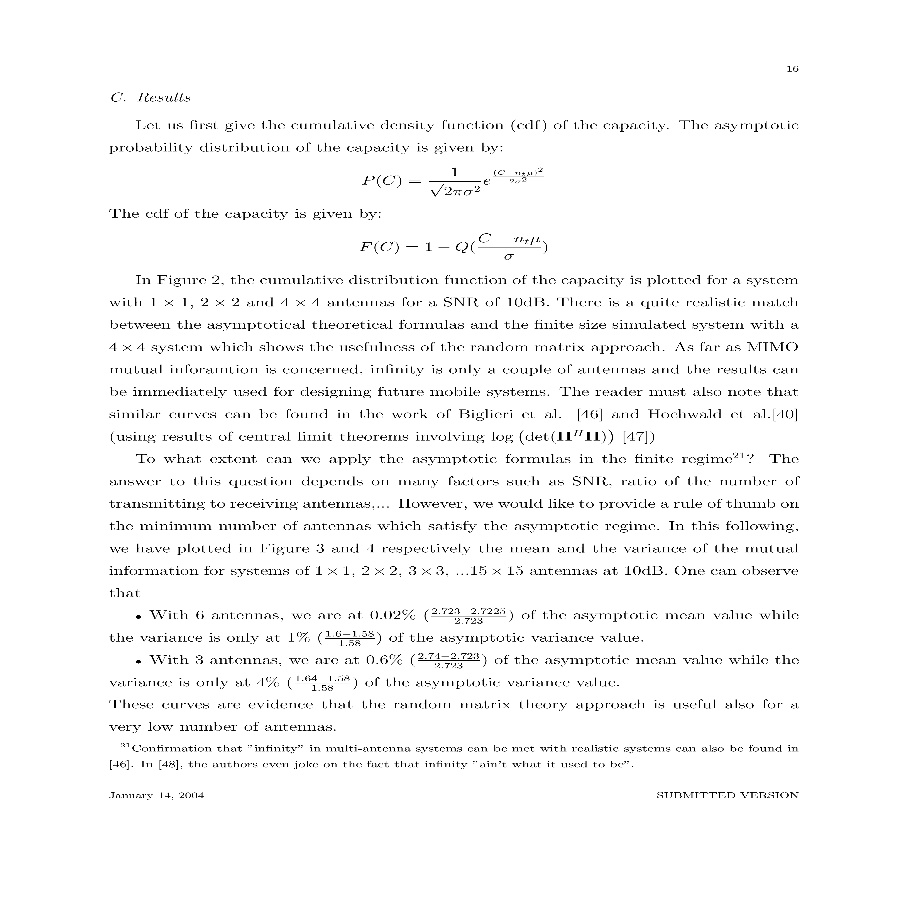eq: (359, 228, 552, 268), (358, 162, 550, 201)
